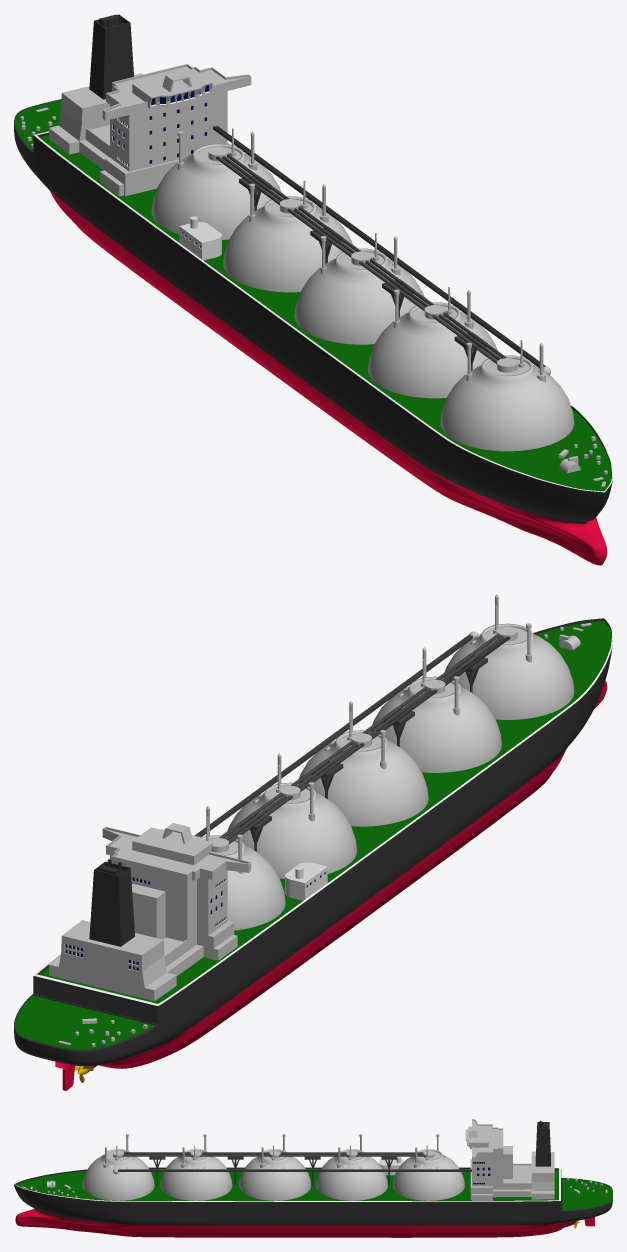
File: lng_ship.glb
The picture shows the model from 3 angles, top to bottom: view 1: azimuth 30°, elevation 25°; view 2: azimuth 150°, elevation 25°; view 3: azimuth 270°, elevation 25°; orthographic projection. The views are drawn at different scales.
Visible parts, largest first — view 1: Cube, Sphere, Cylinder, Cube.001; view 2: Cube, Sphere, Cylinder, Cube.001; view 3: Cube, Sphere, Cylinder, Cube.001.
Boxes of the visible parts, x1,y1,x2,y2 form: Cube: (14, 14, 612, 565); Sphere: (151, 125, 574, 451); Cylinder: (216, 154, 506, 370); Cube.001: (179, 216, 221, 260); Cube: (14, 618, 612, 1070); Sphere: (195, 594, 574, 930); Cylinder: (219, 634, 509, 851); Cube.001: (285, 862, 327, 900); Cube: (14, 1119, 612, 1237); Sphere: (82, 1134, 471, 1200); Cylinder: (122, 1152, 424, 1185); Cube.001: (379, 1156, 403, 1175).
Bounding box in the file's own units: 6.58 × 8.51 × 43.52.
